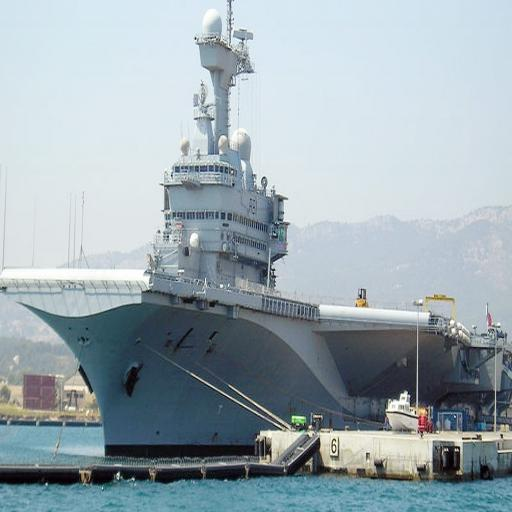Portanaves: (2, 2, 512, 465)
